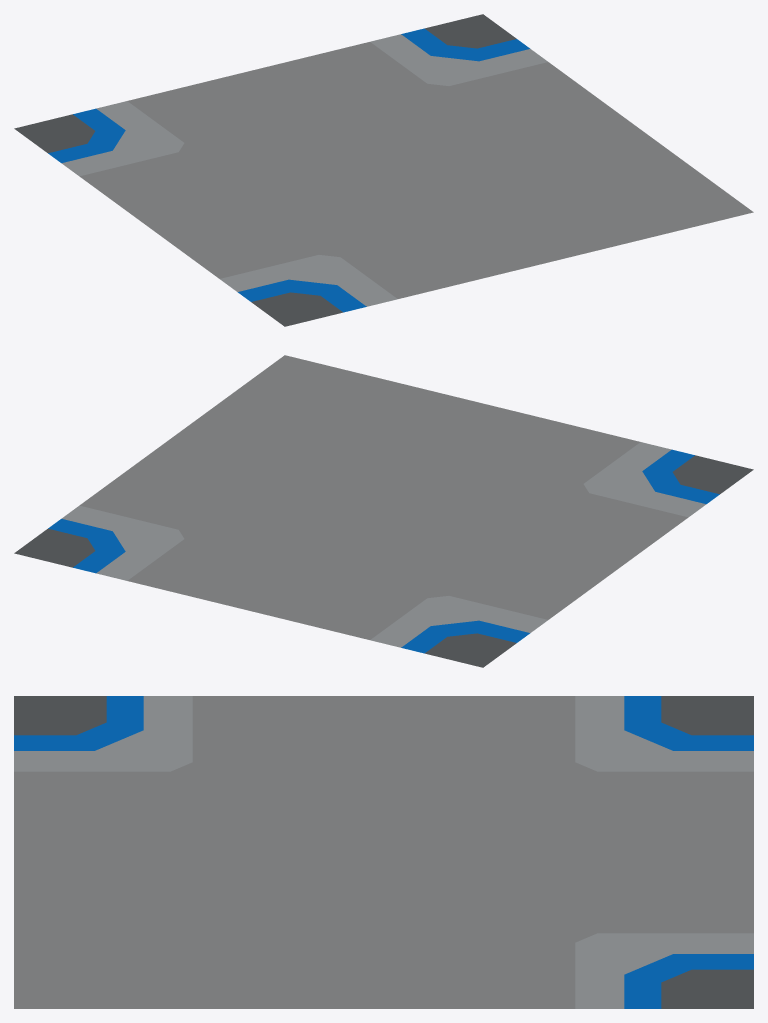
File: Ceiling_type_B_050.fbx
3 views of the same model, one above another, from view 1: azimuth 30°, elevation 25°; view 2: azimuth 150°, elevation 25°; view 3: azimuth 270°, elevation 25° (orthographic). The views are drawn at different scales.
Visible parts, largest first — view 1: Ceiling_type_B_050; view 2: Ceiling_type_B_050; view 3: Ceiling_type_B_050.
Part boxes in pixels (x1=…): Ceiling_type_B_050: x1=14, y1=14, x2=753, y2=326; Ceiling_type_B_050: x1=14, y1=355, x2=753, y2=667; Ceiling_type_B_050: x1=14, y1=696, x2=753, y2=1008.
Bounding box in the file's own units: 400 × 400 × 3.5.
